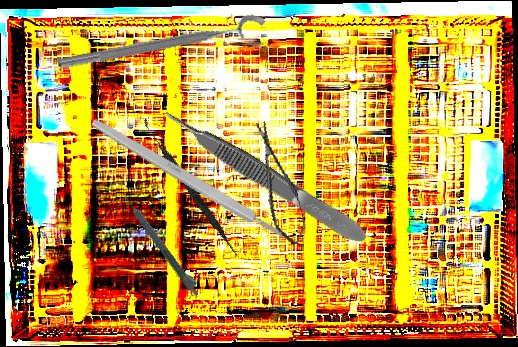Fixation Ring: (55, 12, 271, 87)
Handpiece: (121, 191, 205, 298)
Micro Scissor: (249, 117, 310, 249)
Scalpel Handle: (89, 116, 290, 244)
Spatula Surgical: (138, 119, 243, 258)
Tissue Forceps: (160, 101, 371, 250)
